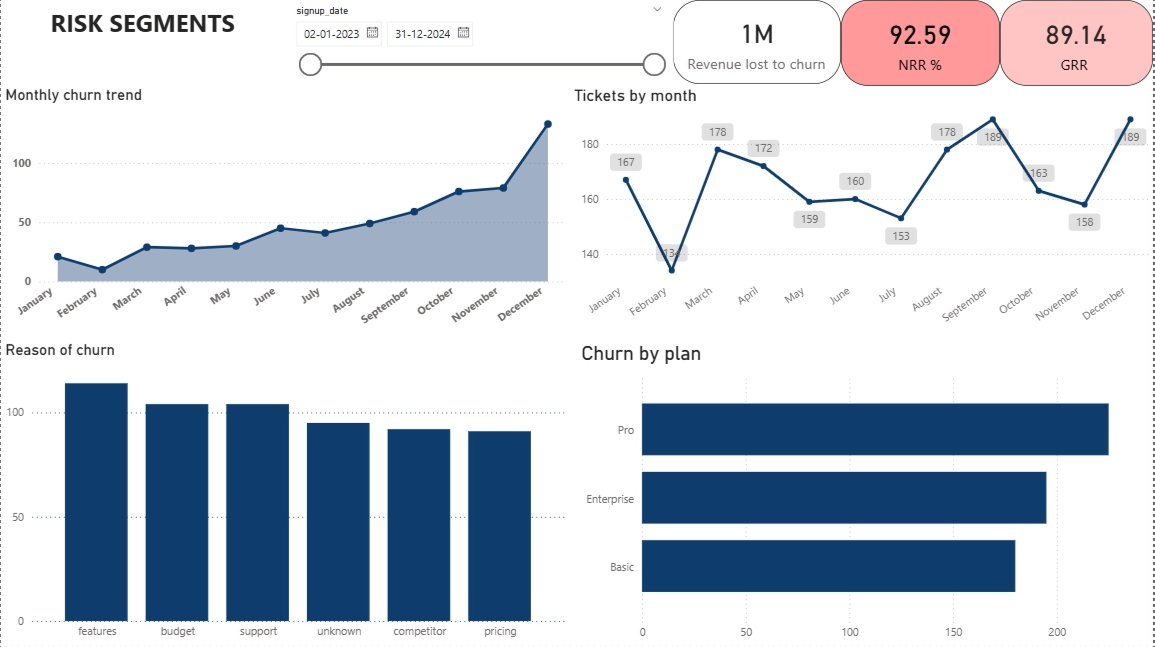

The page's visual inventory and layout, read from the dashboard file:
{"tool":"powerbi","page":{"name":"risk chart","canvas":[1280,720],"ordinal":1},"visuals":[{"type":"lineChart","title":"Monthly churn trend","fields":{"Category":["ravenstack_churn_events.churn_date.Variation.Date Hierarchy.Year","ravenstack_churn_events.churn_date.Variation.Date Hierarchy.Quarter","ravenstack_churn_events.churn_date.Variation.Date Hierarchy.Month","ravenstack_churn_events.churn_date.Variation.Date Hierarchy.Day"],"Y":["CountNonNull(ravenstack_churn_events.churn_date)"]},"box":[0,95.2,632.3,285.5],"z":0},{"type":"columnChart","title":"Reason of churn ","fields":{"Category":["ravenstack_churn_events.reason_code"],"Y":["CountNonNull(ravenstack_churn_events.account_id)"]},"box":[0,378.6,631.4,341.4],"z":1000},{"type":"clusteredBarChart","title":"Churn by plan","fields":{"Category":["ravenstack_accounts.plan_tier"],"Y":["CountNonNull(ravenstack_churn_events.churn_event_id)"]},"box":[640,380,640,340],"z":2000},{"type":"lineChart","title":"Tickets by month","fields":{"Category":["ravenstack_support_tickets.submitted_at.Variation.Date Hierarchy.Month"],"Y":["CountNonNull(ravenstack_support_tickets.ticket_id)"]},"box":[632.3,95.2,648.4,285.5],"z":3000},{"type":"card","fields":{"Values":["ravenstack_accounts.Total Churned MRR"]},"box":[746.7,0,186.7,93.3],"z":4000},{"type":"card","fields":{"Values":["ravenstack_subscriptions.NRR 2024"]},"box":[933.3,0,176.7,95],"z":5000},{"type":"card","fields":{"Values":["ravenstack_subscriptions.GRR 2024"]},"box":[1110,0,170,95],"z":6000},{"type":"slicer","fields":{"Values":["ravenstack_accounts.signup_date"]},"box":[315,0,431.7,93.3],"z":7000},{"type":"textbox","box":[0,1.7,315,73.3],"z":8000}]}

Visuals, with their boxes in screenshot pixels (x1, y1, x2, y2), scaled from the page's 1280x720 canvas onto the 1155x647 screenshot:
"Monthly churn trend" lineChart: <box>0,86,571,342</box>
"Reason of churn " columnChart: <box>0,340,570,646</box>
"Churn by plan" clusteredBarChart: <box>578,341,1154,646</box>
"Tickets by month" lineChart: <box>571,86,1154,342</box>
card - ravenstack_accounts.Total Churned MRR: <box>674,0,842,84</box>
card - ravenstack_subscriptions.NRR 2024: <box>842,0,1002,85</box>
card - ravenstack_subscriptions.GRR 2024: <box>1002,0,1154,85</box>
slicer - ravenstack_accounts.signup_date: <box>284,0,674,84</box>
textbox: <box>0,2,284,67</box>
